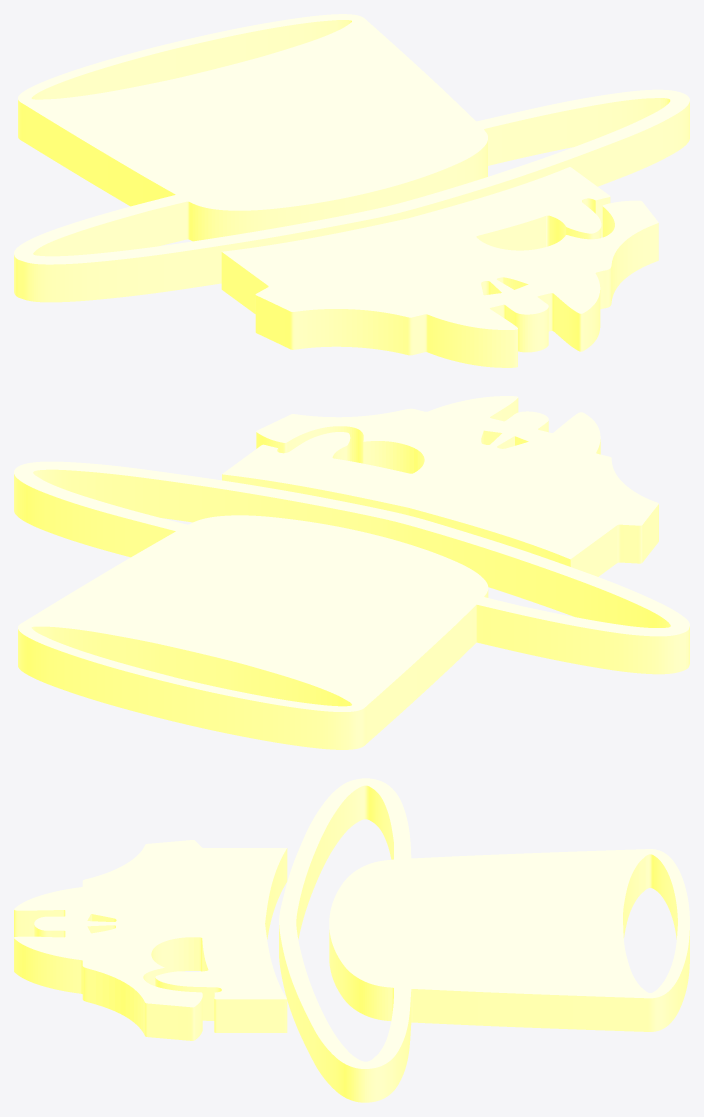
The model's file is 魔术师.fbx.
The picture shows the model from 3 angles, top to bottom: view 1: azimuth 30°, elevation 25°; view 2: azimuth 150°, elevation 25°; view 3: azimuth 270°, elevation 25°; orthographic projection. The views are drawn at different scales.
Visible parts, largest first — view 1: Curve.001; view 2: Curve.001; view 3: Curve.001.
Part boxes in pixels (<box>): Curve.001: <box>14,14,689,367</box>; Curve.001: <box>14,396,689,749</box>; Curve.001: <box>14,778,689,1102</box>.
Size of the model in its own units: 19.57 by 1.06 by 19.22.
